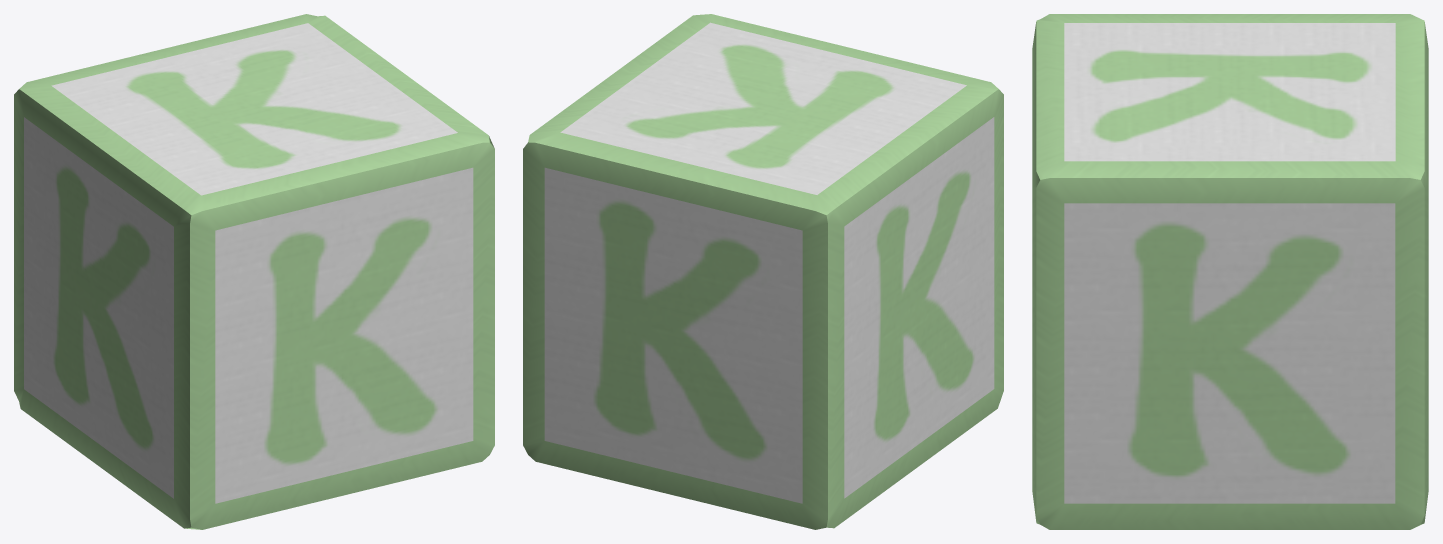
File: BlockK.fbx
3 views of the same model, side by side, from view 1: azimuth 30°, elevation 25°; view 2: azimuth 150°, elevation 25°; view 3: azimuth 270°, elevation 25° (orthographic). The views are drawn at different scales.
Parts seen in each view (by area): view 1: pCube1; view 2: pCube1; view 3: pCube1.
Boxes of the visible parts, <box> form: pCube1: <box>14,14,494,529</box>; pCube1: <box>523,14,1003,529</box>; pCube1: <box>1032,14,1428,529</box>.
Size of the model in its own units: 9 by 9 by 9.
